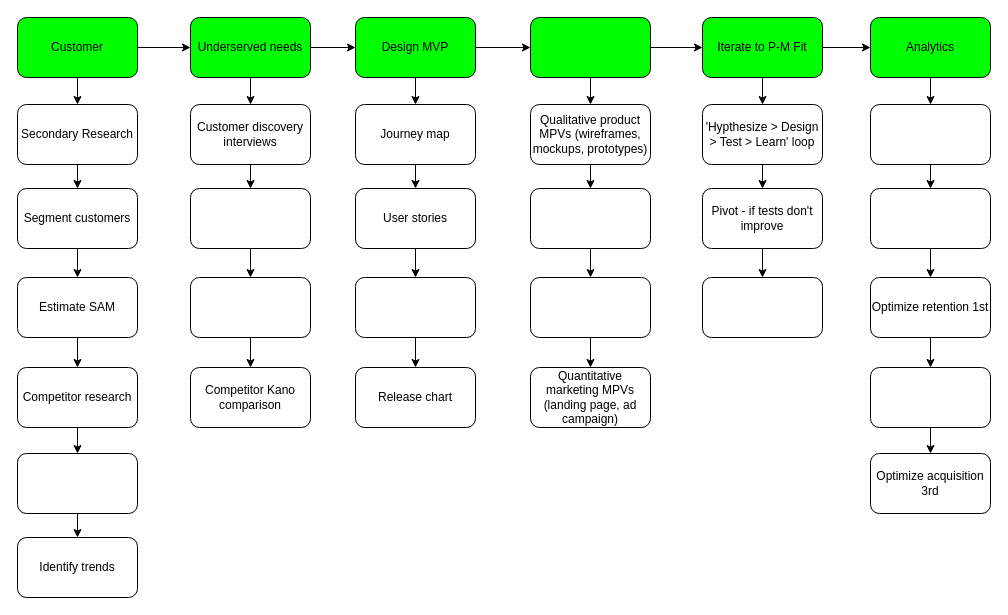
Some shapes in this 1008 by 615 pixel diagram are drawn without their labels. The shapes that lost their labels are listed below. From the top down, each one's centre as x and y in pixels, then its label:
[590,47]: Test MVP
[930,134]: Surveys - NPS, 40% P-M fit test
[250,218]: Gap Analysis (Imp vs Sat)
[590,218]: Usability tests
[930,218]: AARRR
[250,307]: Kano model
[415,307]: Estimate ROI
[590,307]: Results table - features, UX, messaging (5 - 8 ppl)
[762,307]: Persevere - higher fidelity MVPs
[930,397]: Optimize conversion 2nd
[77,483]: Create personas
